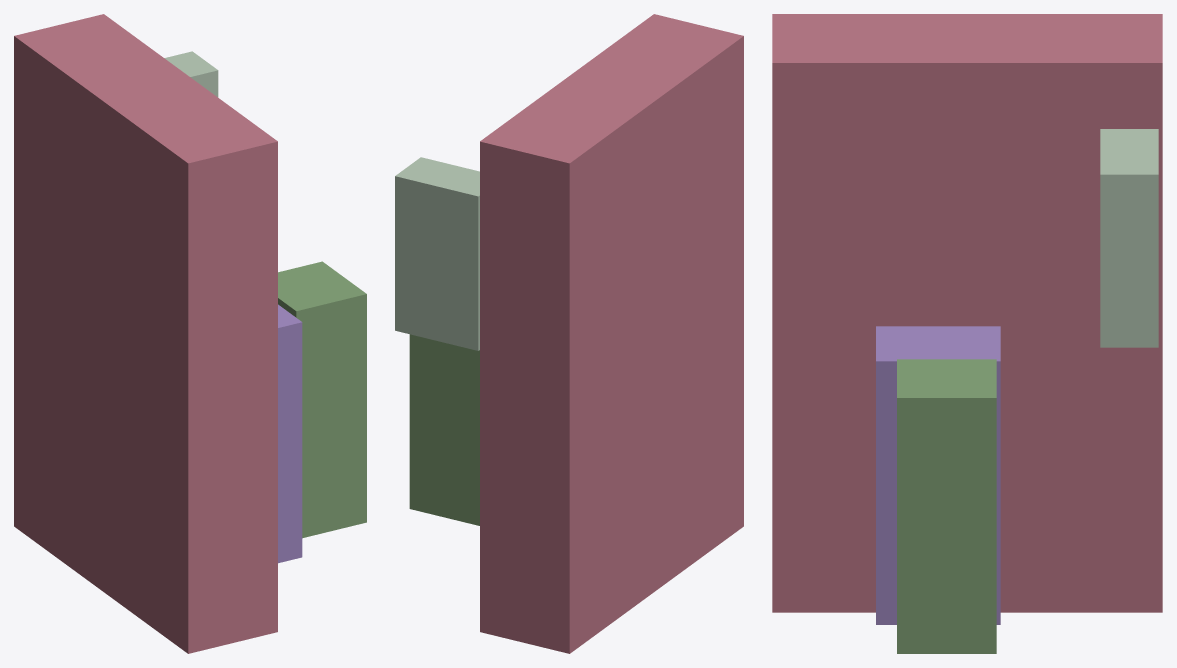
3 views of the same model, side by side, from view 1: azimuth 30°, elevation 25°; view 2: azimuth 150°, elevation 25°; view 3: azimuth 270°, elevation 25° (orthographic). The views are drawn at different scales.
Parts seen in each view (by area): view 1: world; view 2: world; view 3: world.
Boxes of the visible parts, x1=… form: world: x1=14, y1=14, x2=366, y2=653; world: x1=395, y1=14, x2=743, y2=653; world: x1=772, y1=14, x2=1162, y2=653.
Size of the model in its own units: 3.65 by 7.3 by 4.7.
